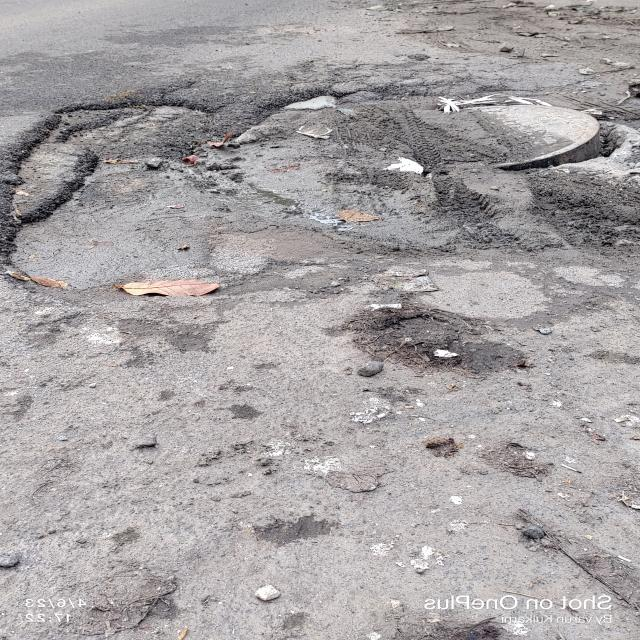potholes: (5, 70, 640, 327)
